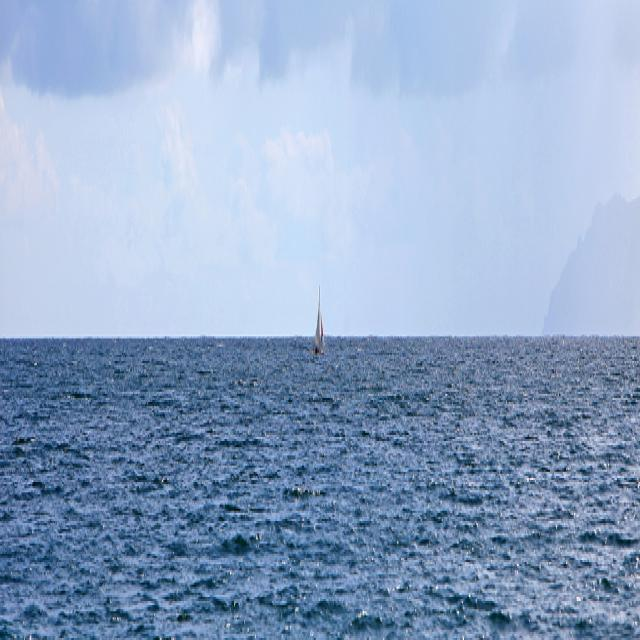Boat: (314, 288, 326, 349)
